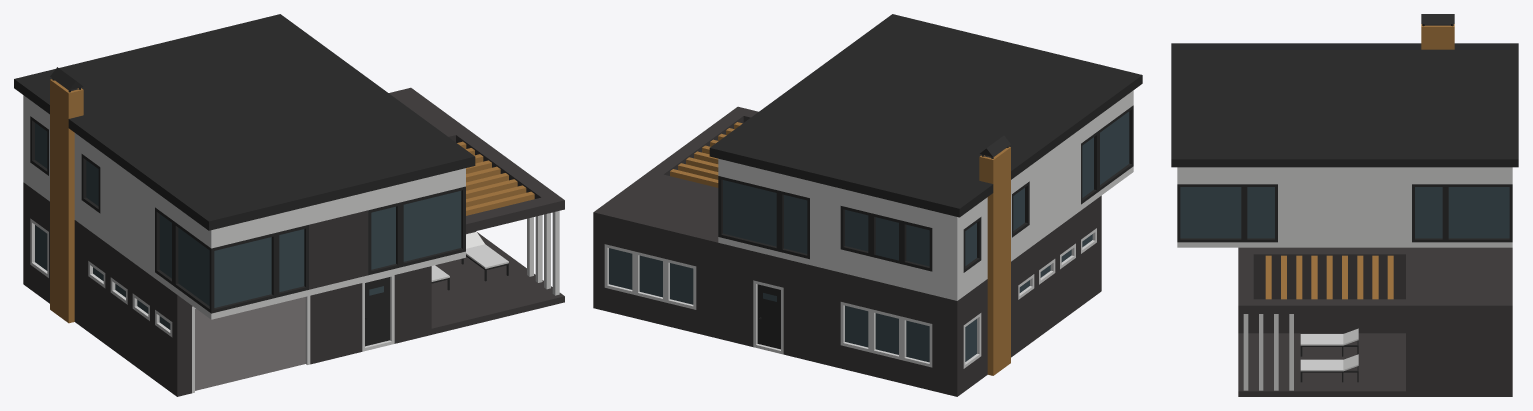
Rendered from buildings_building-house-modern.fbx.
3 views of the same model, side by side, from view 1: azimuth 30°, elevation 25°; view 2: azimuth 150°, elevation 25°; view 3: azimuth 270°, elevation 25° (orthographic). The views are drawn at different scales.
Visible parts, largest first — view 1: buildings_building_house_modern; view 2: buildings_building_house_modern; view 3: buildings_building_house_modern.
Part boxes in pixels (left/top/right/bottom): buildings_building_house_modern: left=14, top=14, right=564, bottom=396; buildings_building_house_modern: left=593, top=14, right=1142, bottom=396; buildings_building_house_modern: left=1171, top=14, right=1518, bottom=396.
Size of the model in its own units: 200 by 117 by 171.
